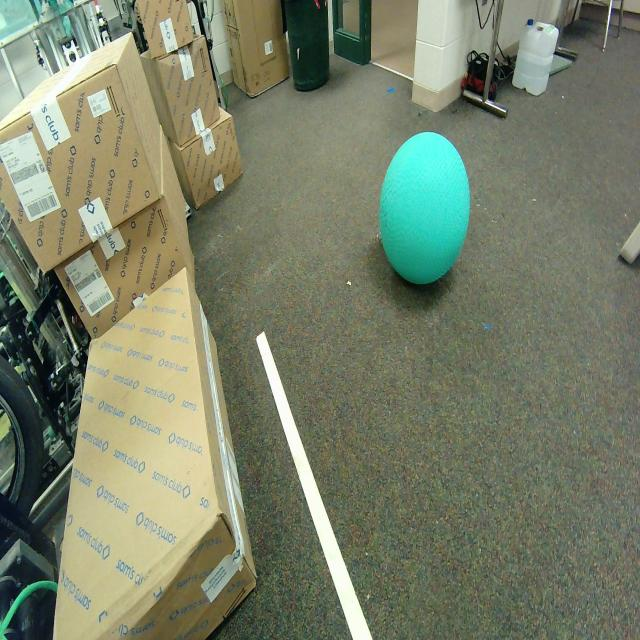algae: (378, 131, 471, 287)
